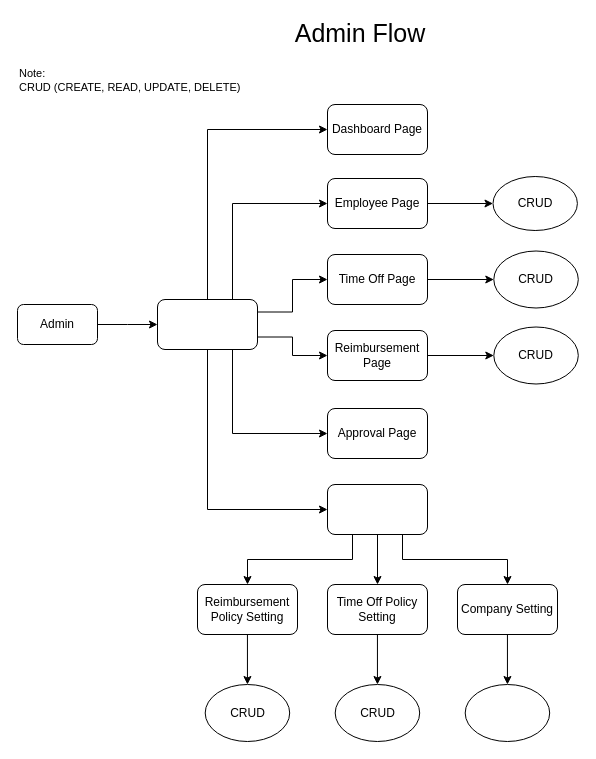
Some shapes in this 596 by 759 pixel diagram are drawn without their labels. Here are the shapes that lost their labels. From the top down, the centre of each, then its label:
At pixel 207 324: "Auth Page".
At pixel 377 509: "Setting Page".
At pixel 507 713: "RUD".
